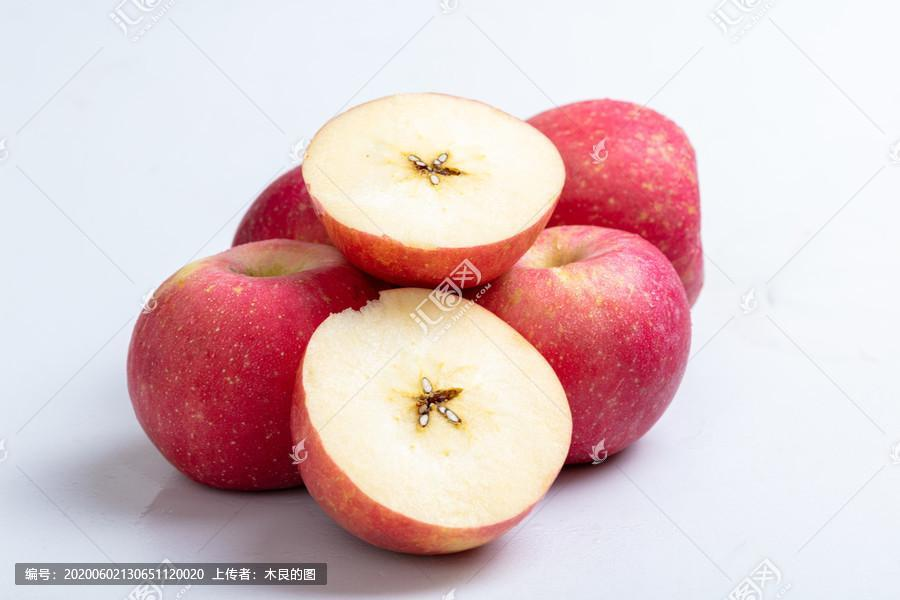apple: (124, 237, 386, 490), (463, 225, 693, 468), (524, 100, 700, 295), (230, 162, 324, 250)
